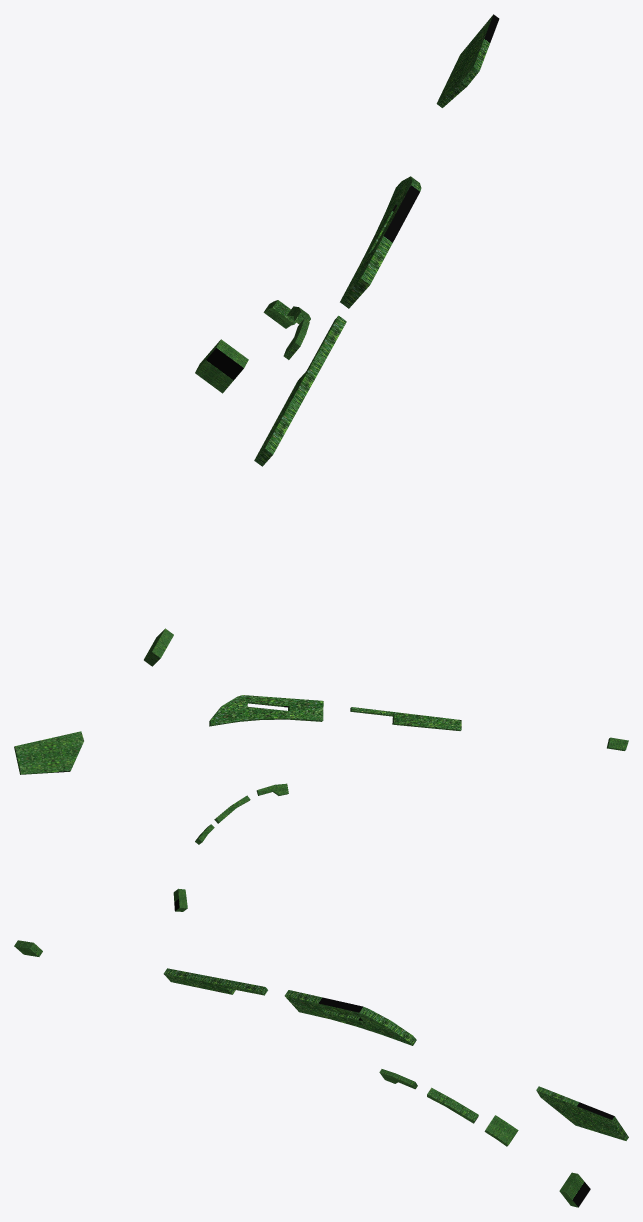
The model's file is data1.glb.
3 renders of one model, top to bottom at view 1: azimuth 30°, elevation 25°; view 2: azimuth 150°, elevation 25°; view 3: azimuth 270°, elevation 25°, orthographic. The views are drawn at different scales.
Bounding box in the file's own units: 100 × 37.95 × 100.
Materials: 1 (1 with a texture image).
